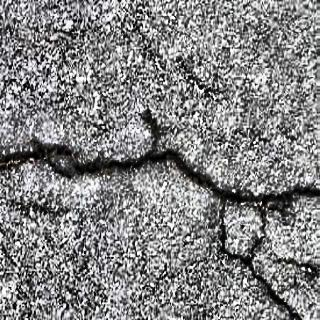alligator-crack: (17, 120, 318, 310)
